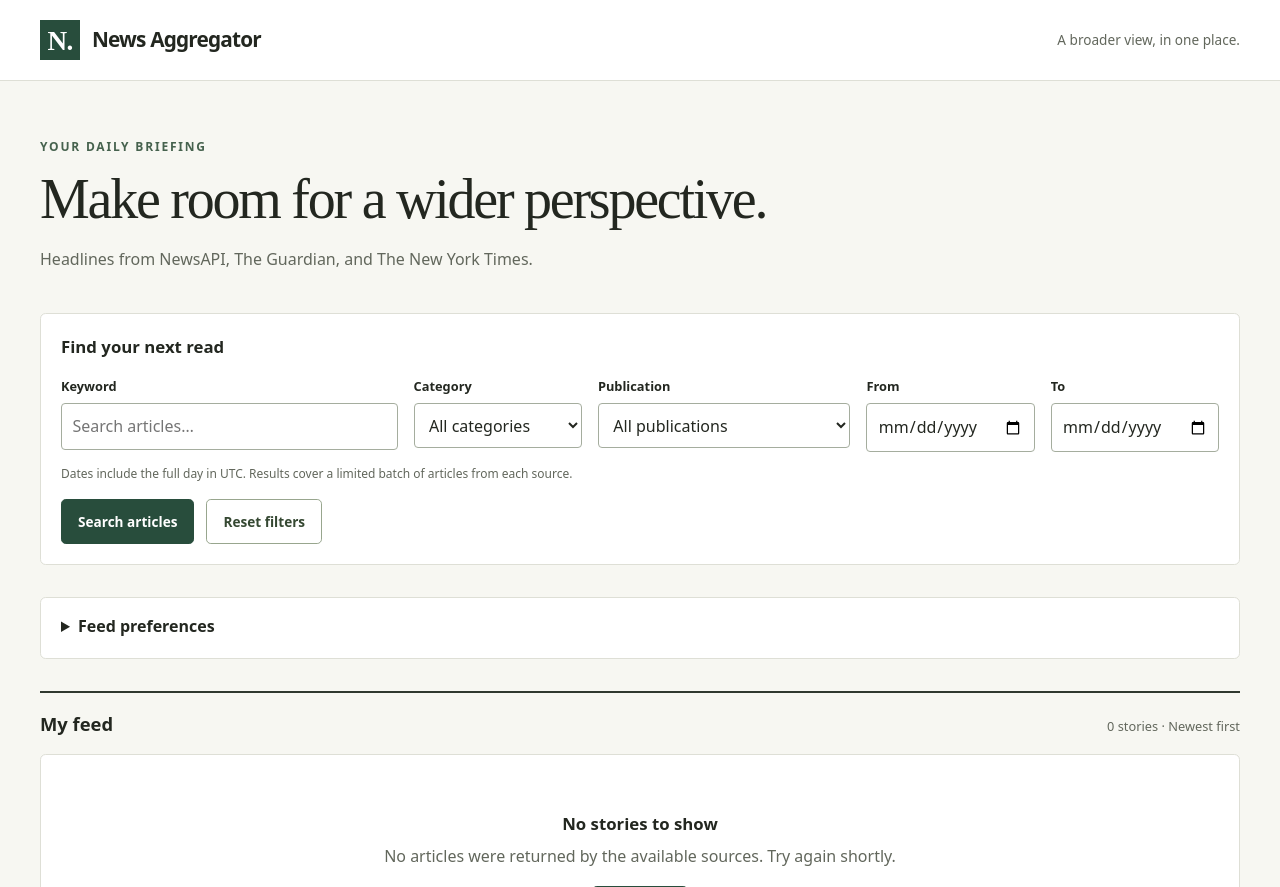
resets all draft and applied filters and returns unrestricted search results
expect the heading "No stories to show" is shown: met, box [562, 812, 718, 835]
Step 1. Type "space" into the search field labelled "Keyword" → (229, 427), box [61, 403, 398, 450]
Step 2. Select "Science" in the dropdown labelled "Category" → (498, 426), box [414, 403, 582, 448]
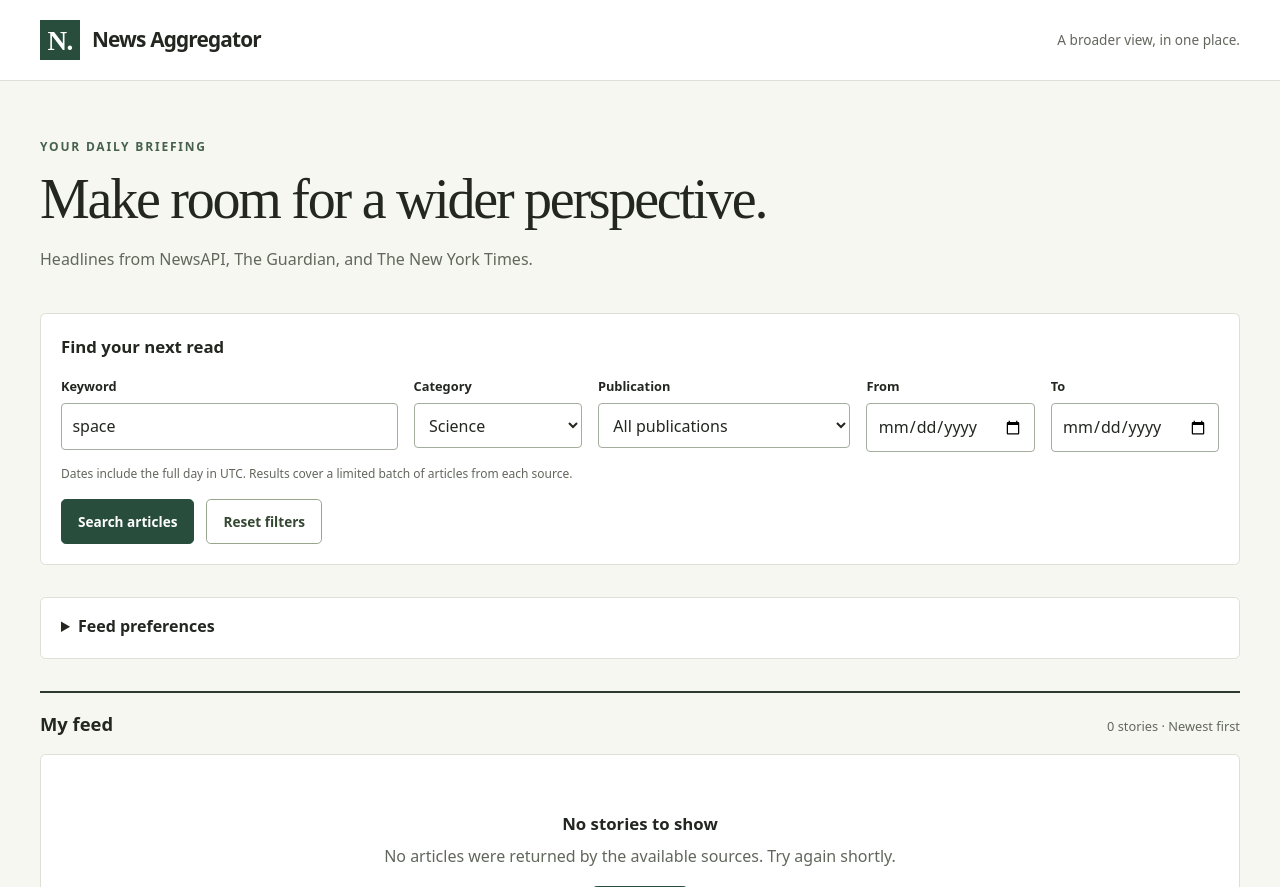
Step 3. Type "2026-10-01" into the date field labelled "From" → (951, 428), box [866, 403, 1035, 452]
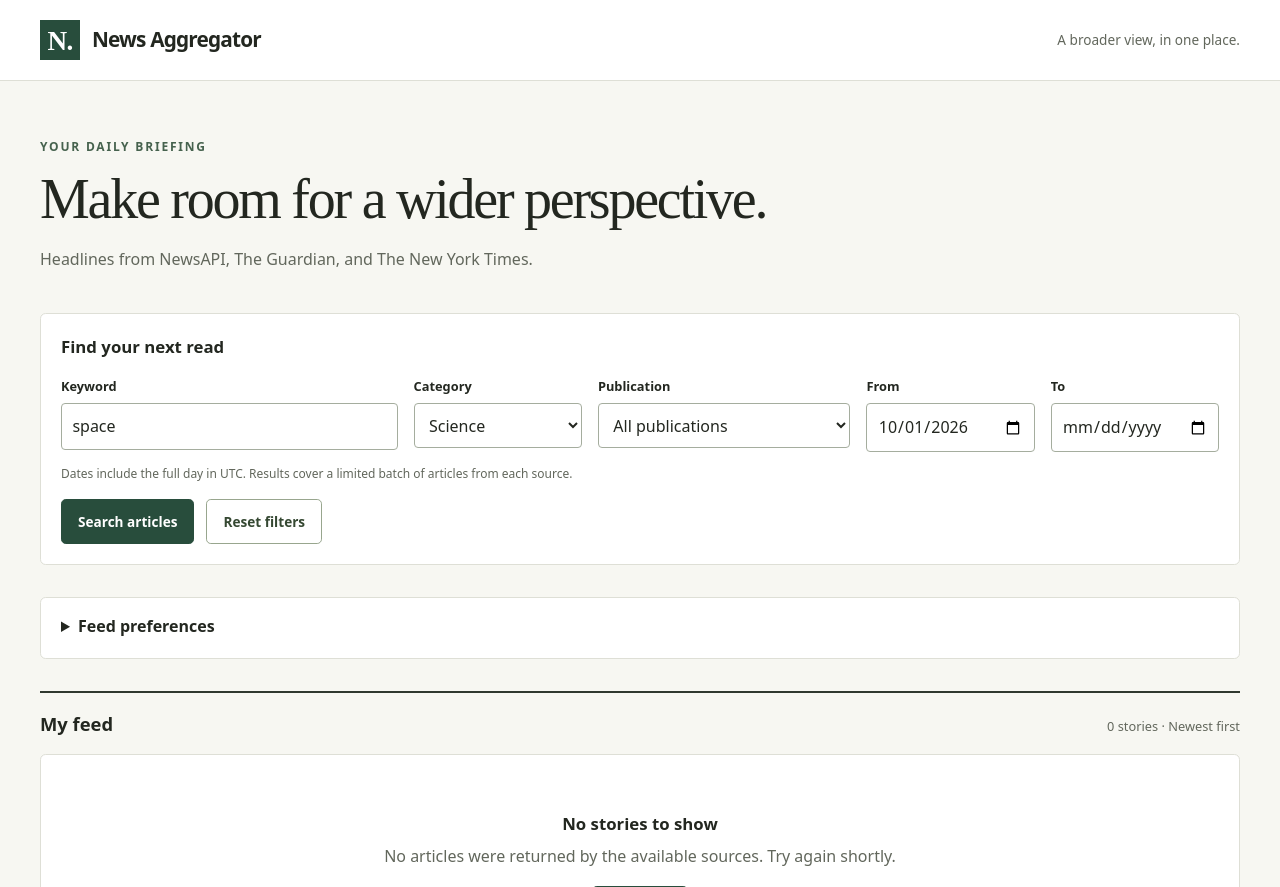
Step 4. Type "2026-10-14" into the date field labelled "To" → (1135, 428), box [1051, 403, 1219, 452]
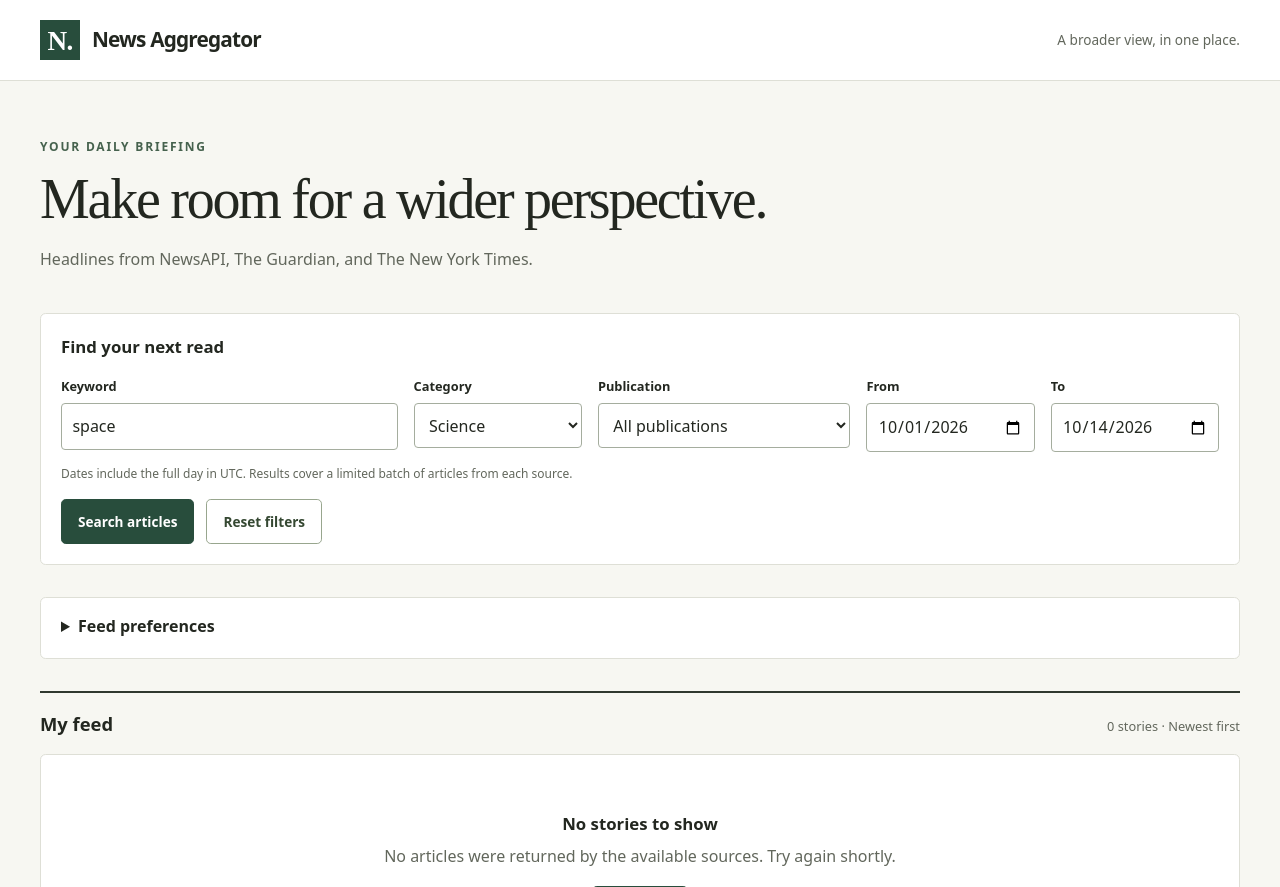
Step 5. Select "The New York Times" in the dropdown labelled "Publication" → (724, 426), box [598, 403, 850, 448]
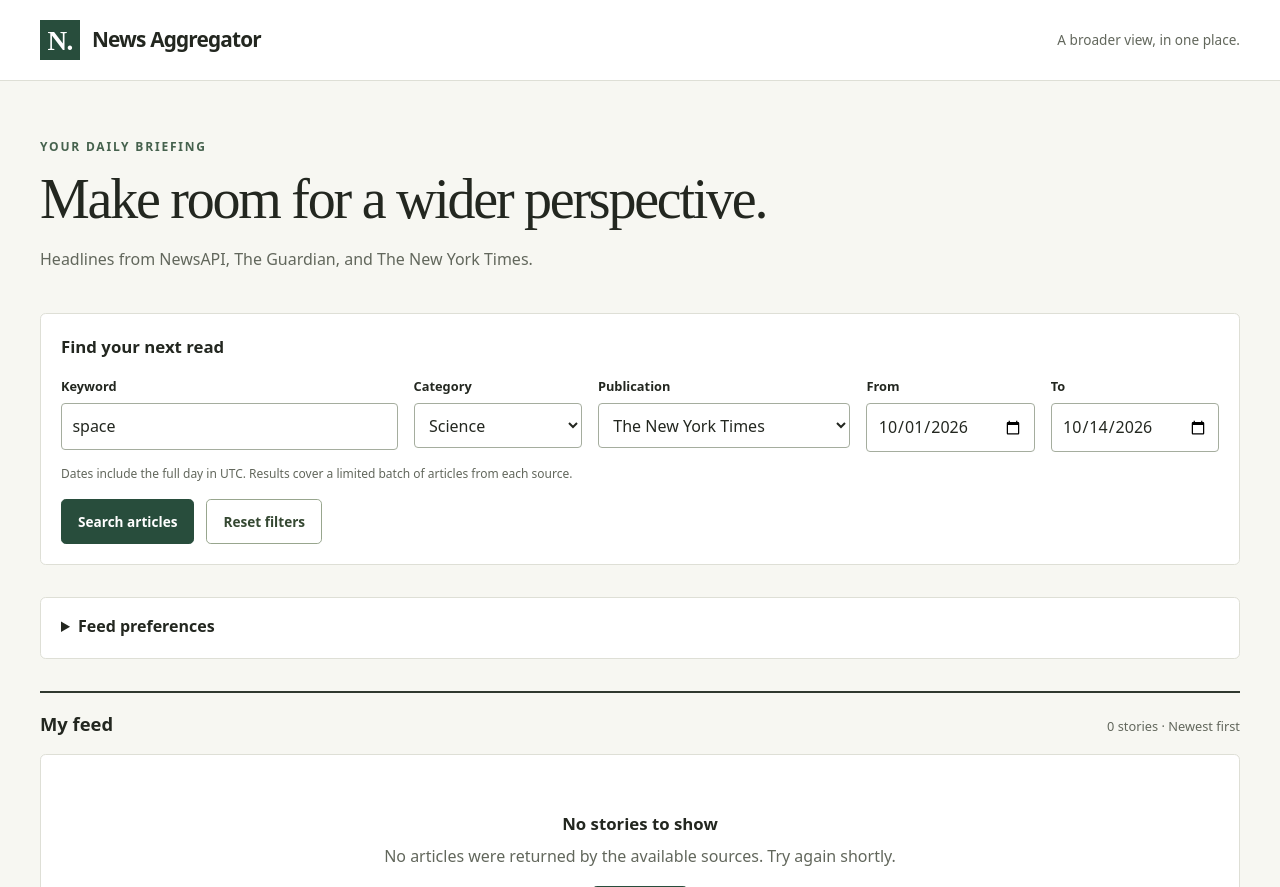
Step 6. Click the button "Search articles" → (128, 521), box [61, 499, 194, 544]
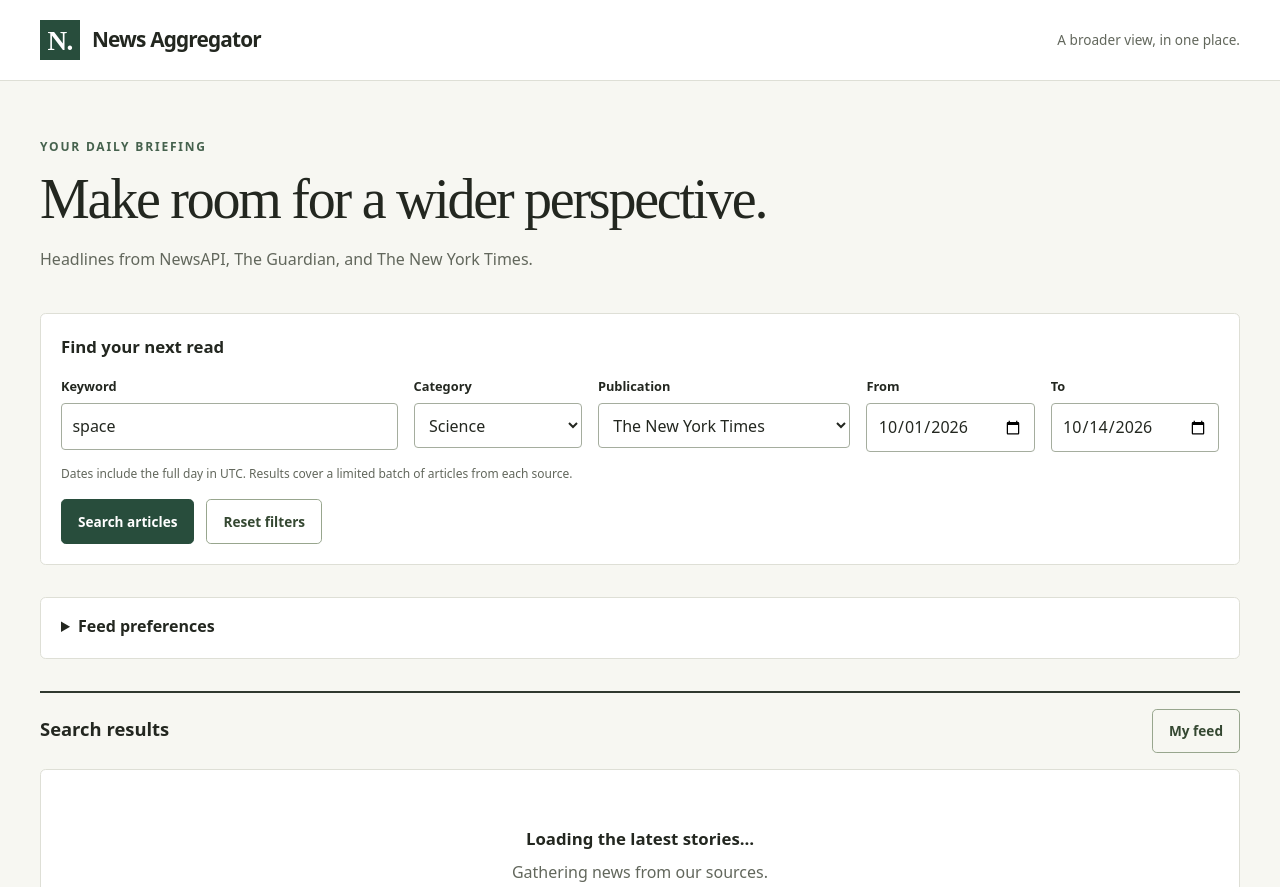
expect the heading "Search results" is shown: met, box [40, 714, 169, 744]
Step 7. Click the button "Reset filters" → (264, 521), box [206, 499, 322, 544]
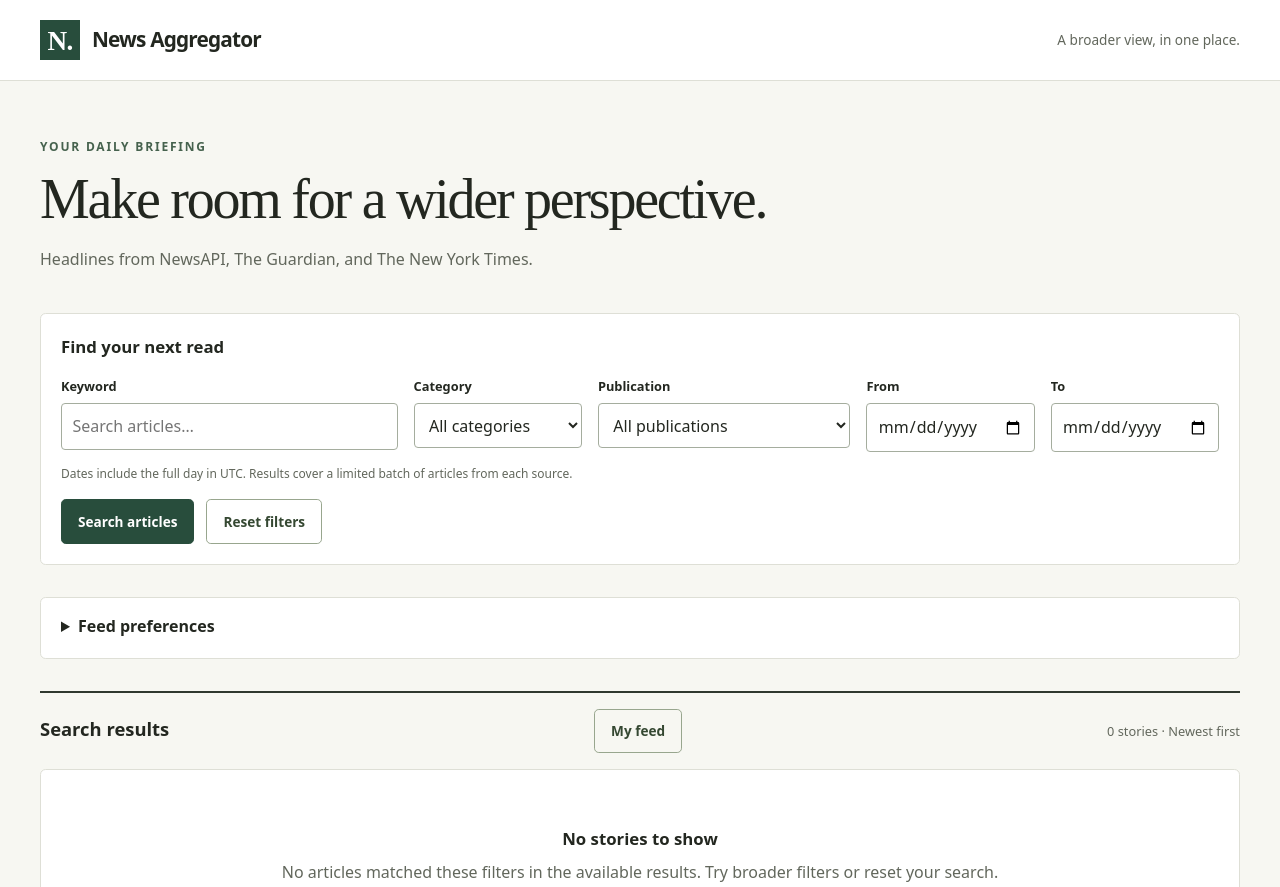
expect the heading "Search results" is shown: met, box [40, 714, 169, 744]
expect the search field labelled "Keyword" is empty: met, box [61, 403, 398, 450]
expect the date field labelled "From" is empty: met, box [866, 403, 1035, 452]
